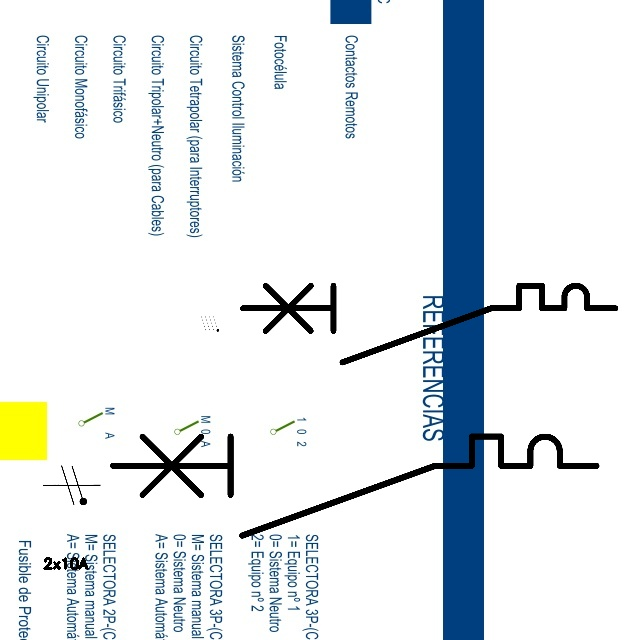interruptor_termomagnetico: (100, 424, 608, 548), (233, 276, 625, 372)
